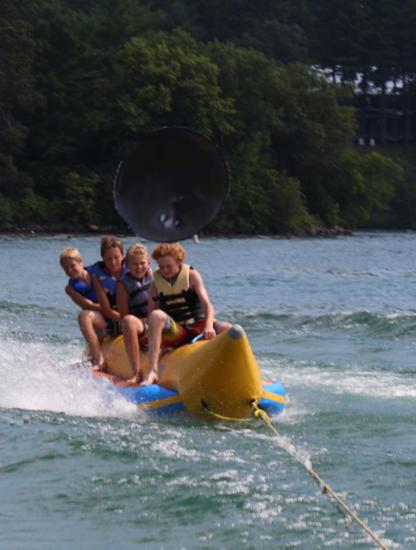Grape: (111, 125, 233, 247)
